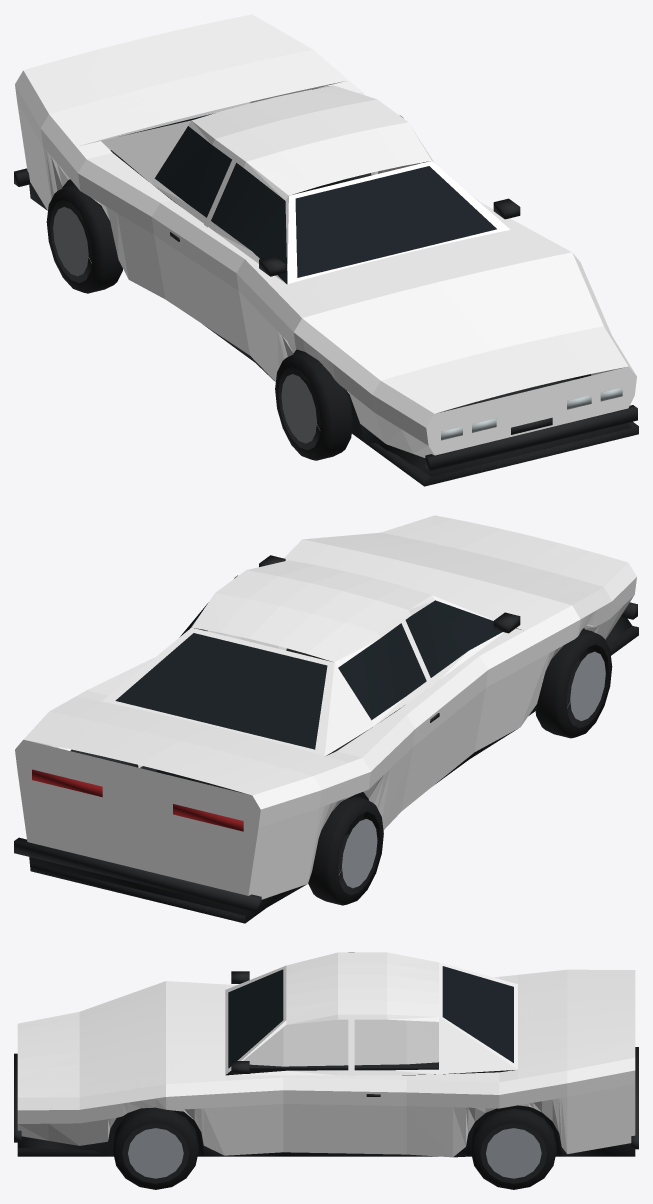
The model's file is calderwood_sabre.glb.
3 renders of one model, top to bottom at view 1: azimuth 30°, elevation 25°; view 2: azimuth 150°, elevation 25°; view 3: azimuth 270°, elevation 25°, orthographic. The views are drawn at different scales.
Parts seen in each view (by area): view 1: Body_Paint, Body_Details, Mount_FrontLeft_Wheel_Details, Mount_RearLeft_Wheel_Details; view 2: Body_Paint, Body_Details, Mount_FrontLeft_Wheel_Details, Mount_RearLeft_Wheel_Details; view 3: Body_Paint, Body_Details, Mount_FrontRight_Wheel_Details, Mount_RearRight_Wheel_Details.
Part boxes in pixels (x1,y1,x2,y2): Body_Paint: (15,14,636,457); Body_Details: (14,88,638,486); Mount_FrontLeft_Wheel_Details: (275,351,352,460); Mount_RearLeft_Wheel_Details: (46,184,122,293); Body_Paint: (15,515,636,899); Body_Details: (14,555,638,923); Mount_FrontLeft_Wheel_Details: (535,629,612,738); Mount_RearLeft_Wheel_Details: (308,796,383,905); Body_Paint: (17,952,635,1157); Body_Details: (14,966,638,1157); Mount_FrontRight_Wheel_Details: (113,1107,198,1189); Mount_RearRight_Wheel_Details: (470,1108,556,1189).
Size of the model in its own units: 1.91 by 1.24 by 4.51.
2 materials, 1 textured.
